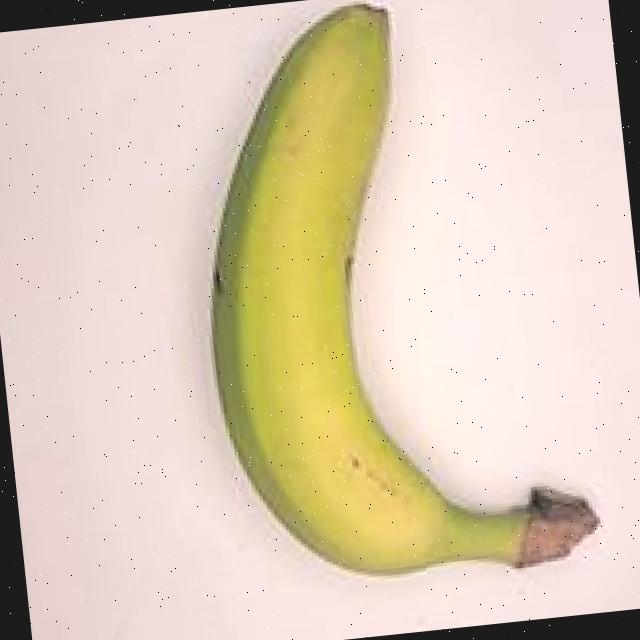Unripe: (132, 0, 635, 621)
